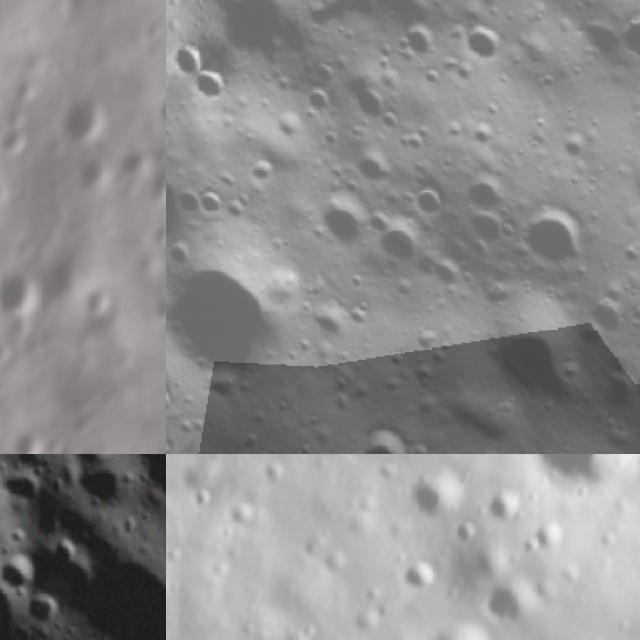crater: (166, 232, 300, 406), (472, 299, 600, 430), (508, 192, 603, 288), (304, 176, 388, 262), (50, 454, 150, 526), (515, 454, 640, 504), (338, 61, 412, 137), (443, 10, 516, 82), (448, 157, 518, 226), (370, 212, 439, 281), (450, 195, 516, 261), (342, 138, 408, 204), (390, 10, 456, 76), (398, 164, 462, 228), (342, 409, 431, 454), (578, 282, 640, 346), (185, 54, 247, 116), (603, 0, 640, 98), (402, 466, 458, 528), (10, 582, 69, 640), (481, 577, 533, 640), (0, 456, 50, 516), (62, 88, 107, 147), (552, 122, 604, 173), (0, 541, 42, 601), (390, 556, 447, 596), (295, 78, 342, 126), (191, 180, 238, 227), (243, 151, 288, 196), (416, 620, 509, 640), (0, 269, 38, 315), (477, 489, 524, 526), (468, 548, 508, 591), (166, 182, 206, 222), (81, 279, 119, 319), (529, 520, 569, 557), (80, 154, 115, 194), (447, 519, 480, 554), (6, 425, 45, 454), (166, 374, 186, 423), (0, 128, 36, 155), (166, 119, 185, 166), (149, 287, 166, 326), (140, 13, 166, 36), (44, 432, 70, 454), (154, 91, 166, 128)
